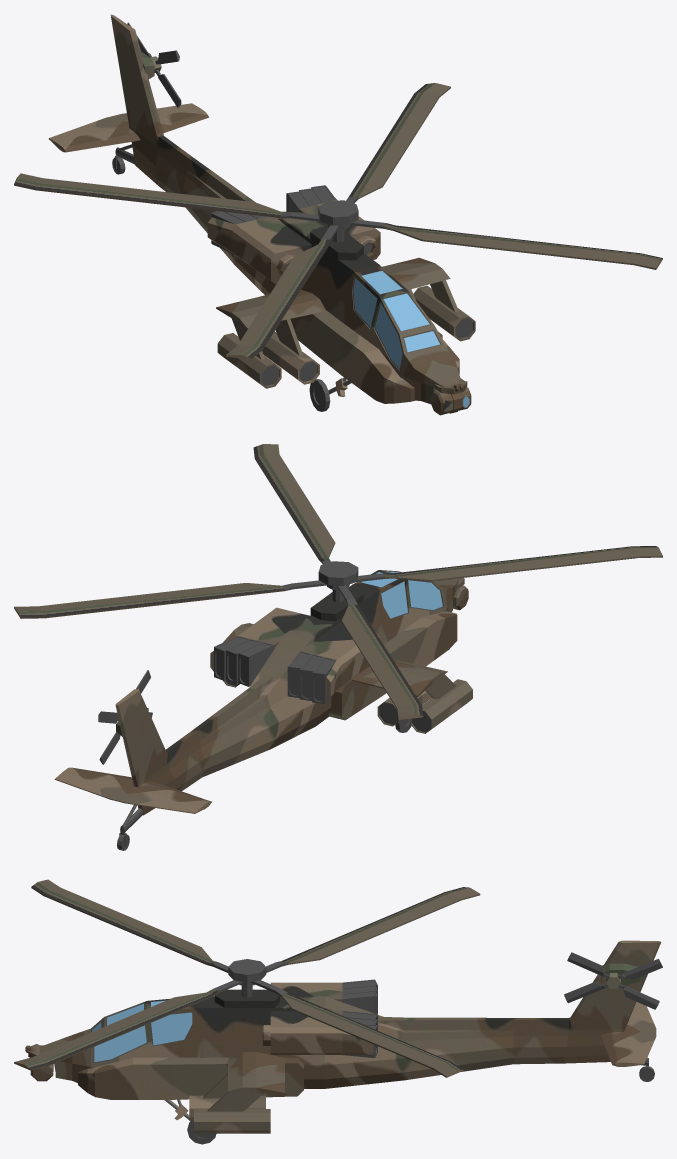
The model's file is heli2.glb.
The picture shows the model from 3 angles, top to bottom: view 1: azimuth 30°, elevation 25°; view 2: azimuth 150°, elevation 25°; view 3: azimuth 270°, elevation 25°; orthographic projection. The views are drawn at different scales.
Parts seen in each view (by area): view 1: Cube_14, Cube.009_0, Cube.001_8, Cube.007_10, Cube.005_9, rotors, Cube.003_11, Cube.002_4; view 2: Cube_14, Cube.009_0, Cube.001_8, Cube.005_9, Cube.007_10, rotors, Cube.003_11; view 3: Cube_14, Cube.009_0, Cube.001_8, Cube.007_10, Cube.003_11, Cube.005_9, rotors, Plane_13.
Boxes of the visible parts, x1,y1,x2,y2 form: Cube_14: (48, 14, 475, 404); Cube.009_0: (14, 83, 662, 359); Cube.001_8: (290, 310, 459, 411); Cube.007_10: (207, 198, 380, 283); Cube.005_9: (211, 185, 336, 253); rotors: (318, 200, 358, 242); Cube.003_11: (127, 22, 181, 107); Cube.002_4: (430, 387, 471, 415); Cube_14: (54, 570, 472, 815); Cube.009_0: (14, 444, 662, 719); Cube.001_8: (329, 611, 457, 732); Cube.005_9: (214, 636, 336, 704); Cube.007_10: (210, 607, 379, 699); rotors: (318, 561, 358, 602); Cube.003_11: (98, 670, 152, 764); Cube_14: (39, 940, 661, 1133); Cube.009_0: (14, 879, 480, 1077); Cube.001_8: (78, 1057, 303, 1144); Cube.007_10: (262, 982, 373, 1054); Cube.003_11: (564, 952, 662, 1009); Cube.005_9: (342, 979, 377, 1057); rotors: (228, 959, 266, 997); Plane_13: (600, 963, 645, 985).
Size of the model in its own units: 2.19 by 0.947 by 3.05.
4 materials, 1 textured.
